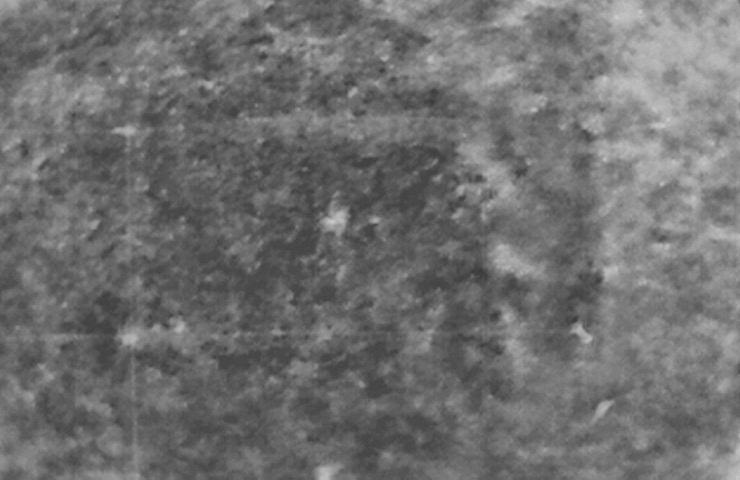landmines: (318, 202, 354, 234)
